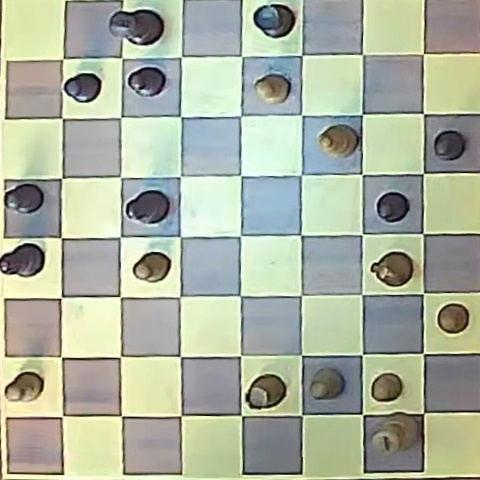black-bishop: (125, 190, 169, 225), (0, 243, 44, 277), (127, 66, 166, 97)
black-king: (110, 8, 163, 46)
black-pawn: (4, 183, 44, 214), (63, 73, 102, 103), (376, 192, 410, 223), (433, 130, 466, 161)
black-rook: (253, 4, 294, 38)
white-bishop: (318, 125, 357, 158)
white-king: (371, 415, 418, 456)
white-knight: (370, 252, 412, 287)
white-pawn: (5, 372, 44, 403), (133, 252, 170, 283), (309, 368, 343, 400), (254, 74, 290, 104), (371, 373, 403, 402)
white-rook: (246, 375, 286, 409), (437, 303, 469, 334)
